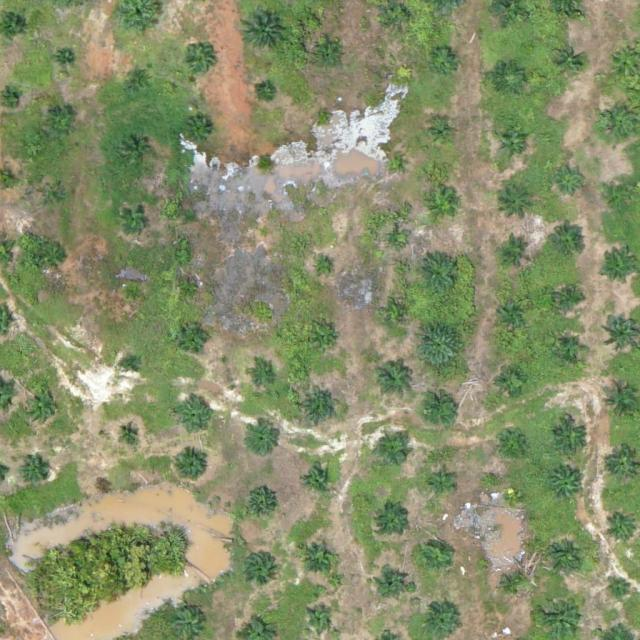Small: (415, 250, 462, 298), (539, 590, 586, 638), (417, 387, 464, 434), (417, 322, 464, 369), (241, 8, 288, 55), (498, 183, 538, 223), (601, 250, 640, 290), (546, 538, 585, 578), (601, 383, 640, 423), (373, 358, 412, 398), (551, 418, 590, 458), (301, 387, 340, 427), (597, 103, 637, 142), (22, 388, 62, 427), (549, 468, 588, 507), (172, 448, 211, 487), (300, 537, 339, 576), (175, 397, 214, 436), (548, 227, 587, 266), (41, 241, 72, 273), (248, 424, 279, 456), (246, 487, 277, 519), (303, 465, 334, 497), (179, 322, 210, 354), (495, 64, 526, 96), (430, 46, 461, 78), (553, 46, 584, 78), (607, 179, 638, 211), (556, 164, 587, 196), (498, 128, 529, 160), (378, 566, 409, 597), (380, 437, 411, 468), (378, 506, 409, 537), (496, 426, 527, 457), (496, 366, 527, 397), (420, 541, 451, 572), (244, 552, 275, 583), (429, 192, 460, 223), (499, 568, 530, 599), (316, 42, 347, 73), (555, 283, 586, 314), (556, 335, 587, 366), (497, 295, 528, 326), (500, 236, 531, 267), (426, 119, 457, 150), (606, 513, 637, 544), (21, 456, 52, 487), (184, 46, 215, 77), (186, 117, 217, 148), (121, 204, 152, 235), (121, 137, 152, 168), (126, 66, 157, 97), (46, 110, 77, 141), (610, 448, 640, 479), (429, 472, 453, 496), (249, 365, 273, 389), (608, 577, 632, 601), (315, 330, 338, 354), (308, 607, 331, 631), (119, 422, 142, 446), (122, 283, 146, 306), (43, 186, 67, 209), (180, 279, 203, 303), (391, 308, 407, 324), (504, 489, 520, 505), (259, 85, 274, 101), (387, 154, 402, 170), (390, 234, 405, 250), (317, 261, 332, 277), (58, 51, 73, 67), (3, 91, 18, 107), (317, 109, 332, 124), (123, 358, 138, 373), (258, 227, 273, 242)
